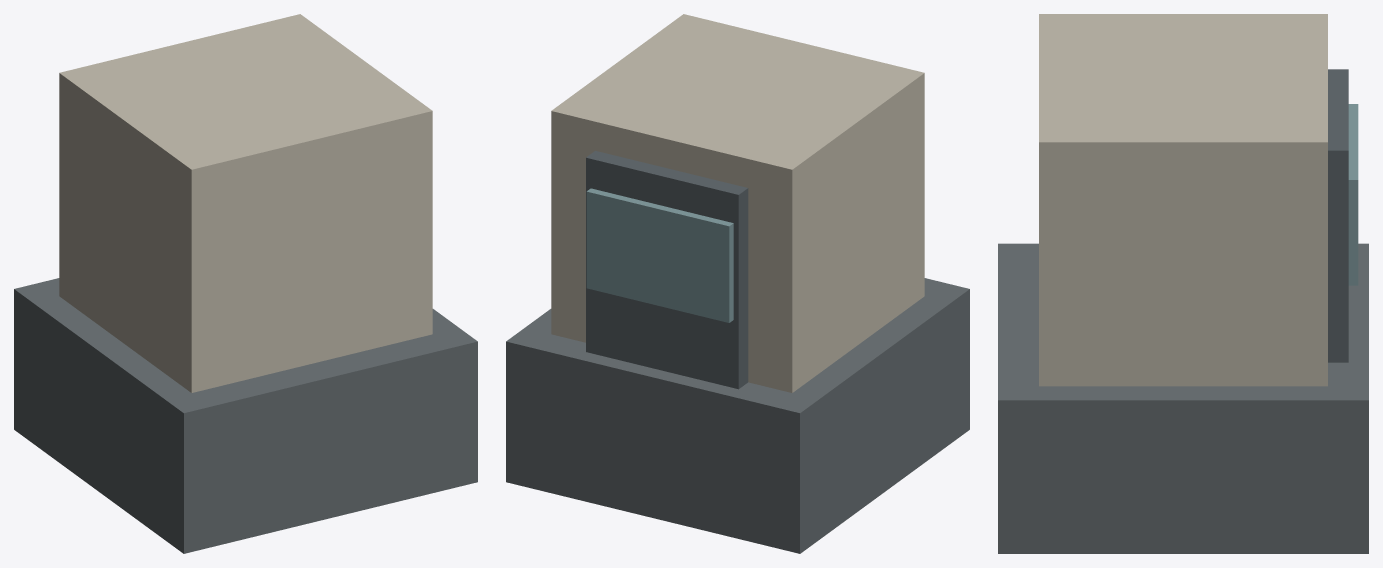
The model's file is iz3_environment_ferry_bollard_01.glb.
3 views of the same model, side by side, from view 1: azimuth 30°, elevation 25°; view 2: azimuth 150°, elevation 25°; view 3: azimuth 270°, elevation 25° (orthographic). The views are drawn at different scales.
Parts seen in each view (by area): view 1: cabinet, base; view 2: cabinet, base, panel, display; view 3: cabinet, base, panel, display.
Boxes of the visible parts, bbox=[...] form: cabinet: bbox=[59, 14, 432, 392]; base: bbox=[14, 278, 477, 553]; cabinet: bbox=[551, 14, 924, 392]; base: bbox=[506, 278, 969, 553]; panel: bbox=[586, 151, 748, 389]; display: bbox=[586, 188, 733, 322]; cabinet: bbox=[1039, 14, 1327, 386]; base: bbox=[998, 243, 1368, 553]; panel: bbox=[1328, 69, 1348, 362]; display: bbox=[1348, 104, 1358, 285].
Bounding box in the file's own units: 0.7 × 0.828 × 0.7.
